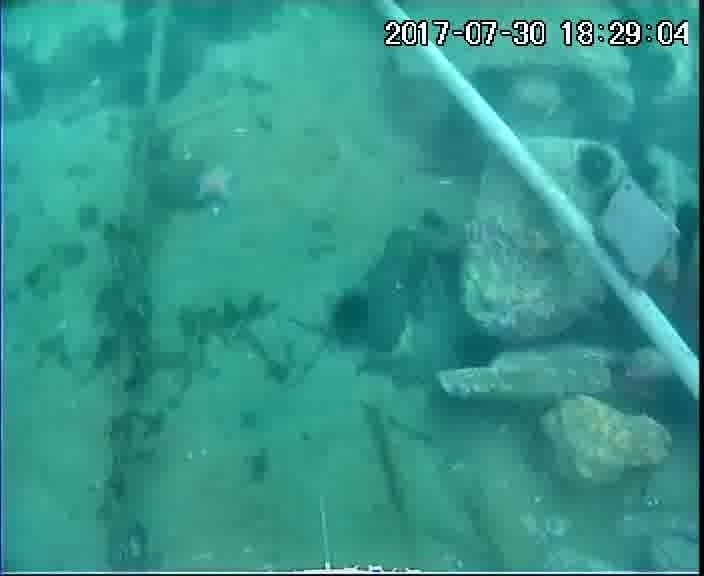echinus: (419, 106, 495, 187), (1, 40, 51, 130), (324, 287, 379, 347), (463, 61, 521, 115), (448, 324, 507, 375), (571, 142, 620, 192)
starfish: (188, 160, 241, 210)
